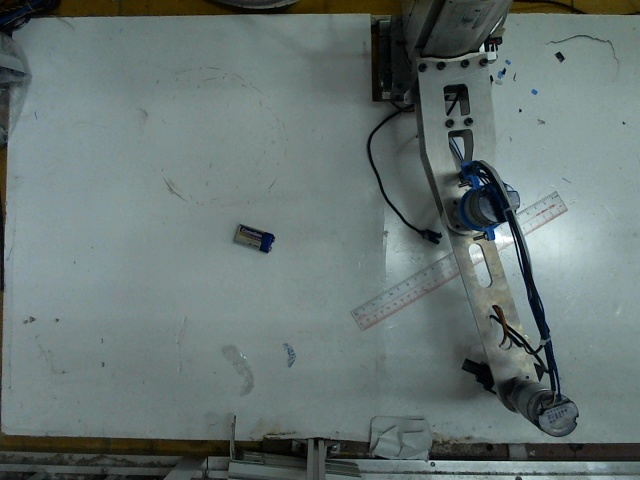battery: (232, 216, 274, 257)
